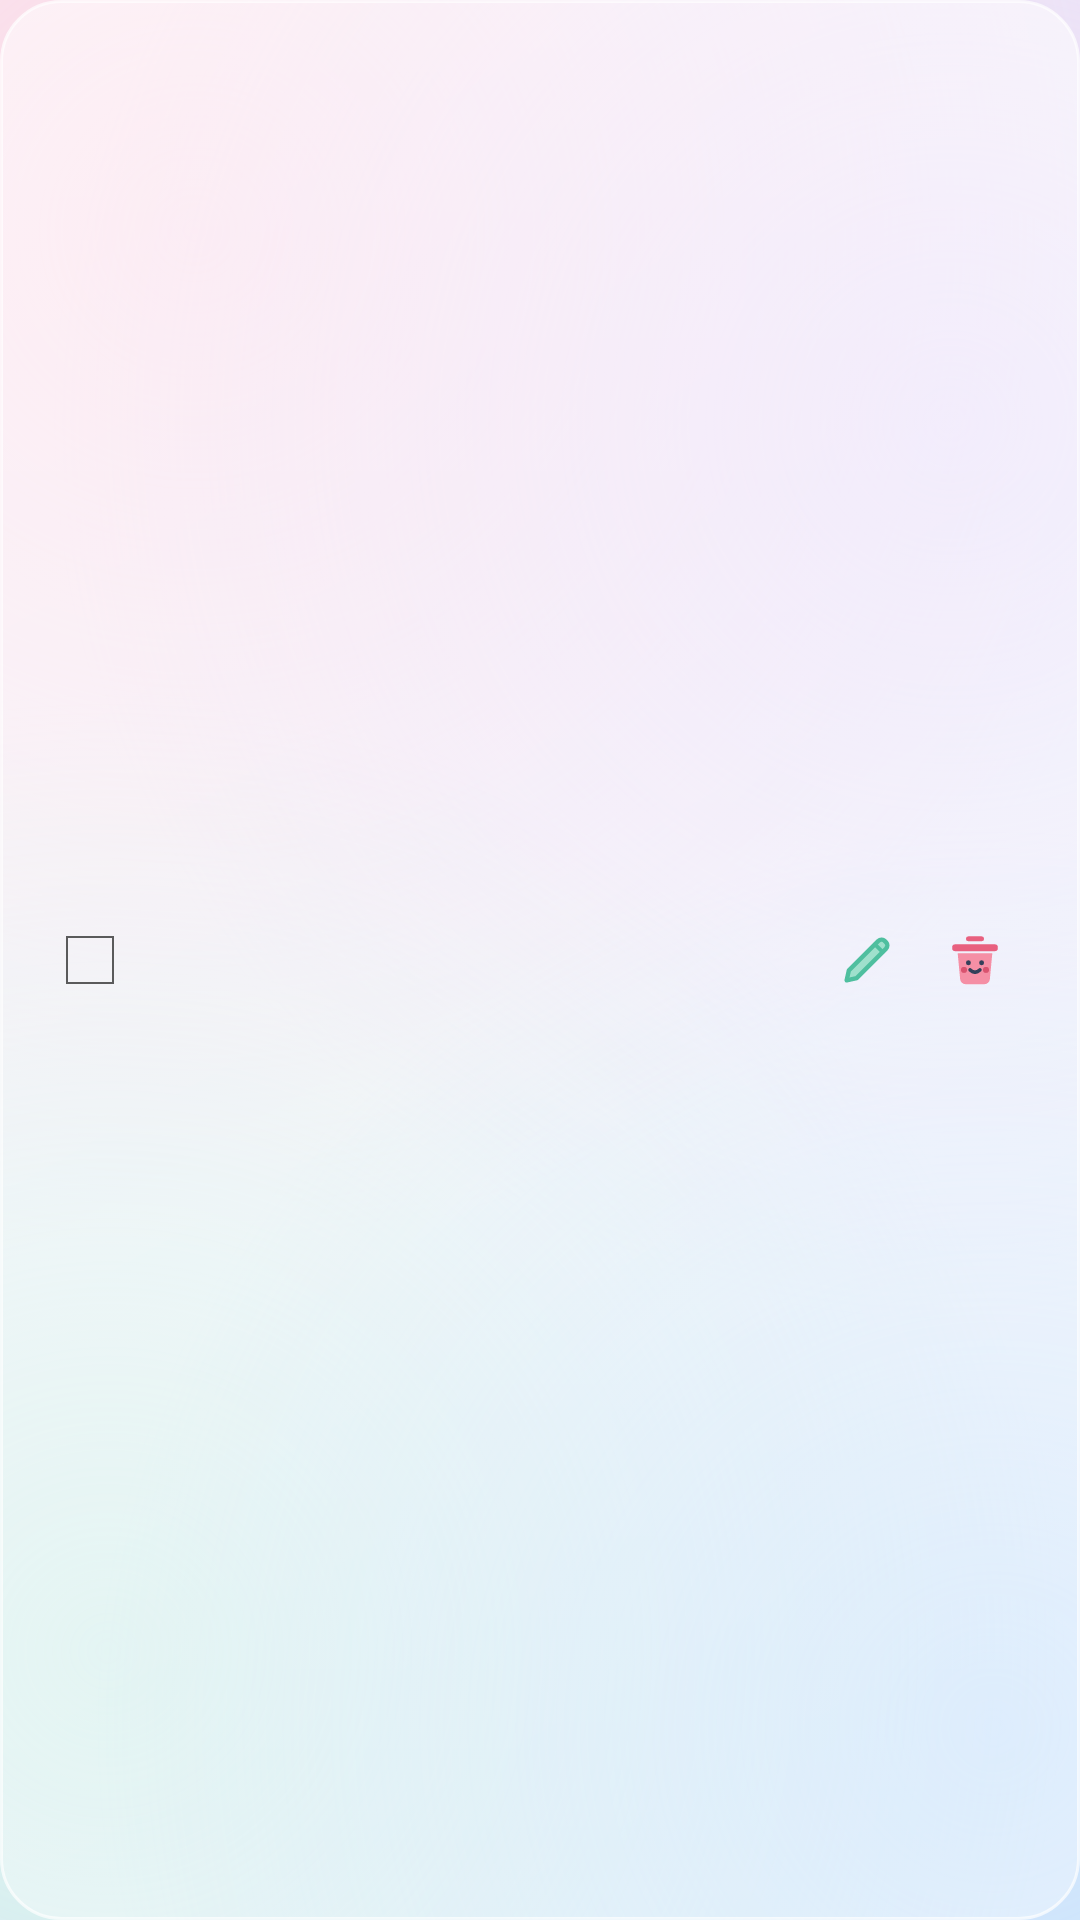

Point at icon controls on the screen. Image size 1080 × 1920, points as (x=x, y=y).
删除: (x=975, y=960)
编辑待办: (x=867, y=960)
